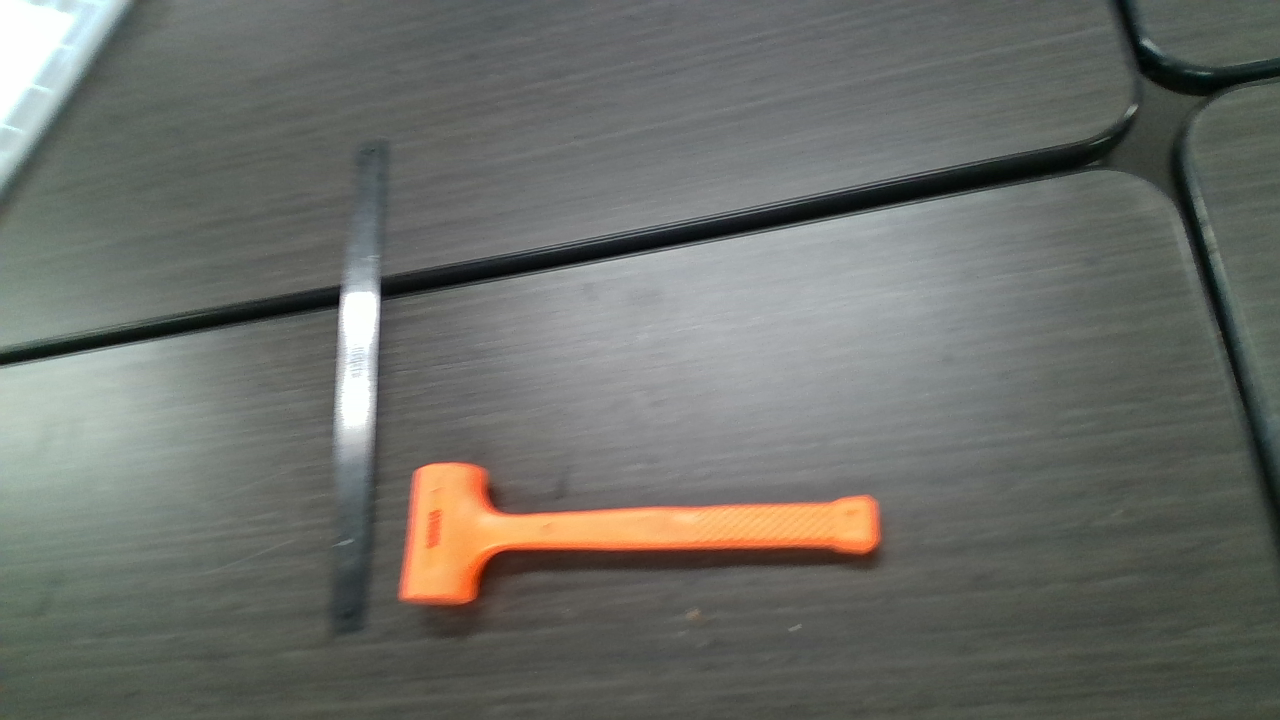Orange Hammer: (403, 465, 881, 603)
